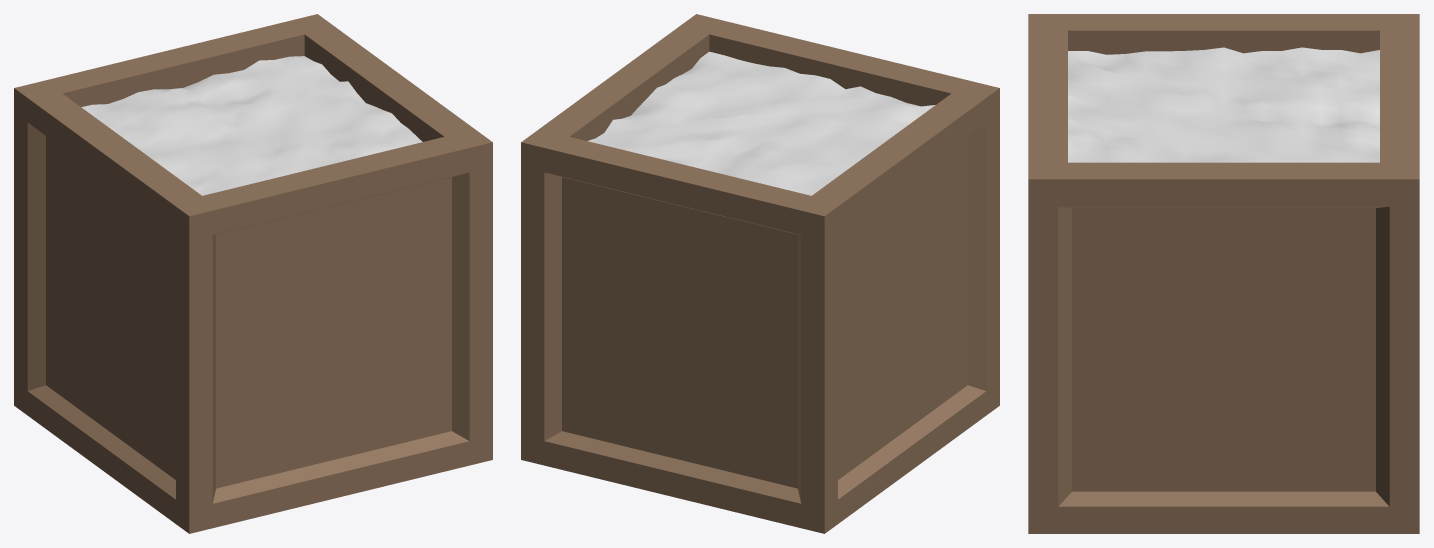
Rendered from crate.fbx.
3 renders of one model, left to right at view 1: azimuth 30°, elevation 25°; view 2: azimuth 150°, elevation 25°; view 3: azimuth 270°, elevation 25°, orthographic. The views are drawn at different scales.
Visible parts, largest first — view 1: Cube, Cube.001; view 2: Cube, Cube.001; view 3: Cube, Cube.001.
Boxes of the visible parts, bbox=[...] form: Cube: bbox=[14, 14, 492, 533]; Cube.001: bbox=[81, 56, 422, 195]; Cube: bbox=[521, 14, 999, 533]; Cube.001: bbox=[587, 51, 935, 195]; Cube: bbox=[1028, 14, 1419, 533]; Cube.001: bbox=[1068, 47, 1379, 162].
Size of the model in its own units: 200 by 200 by 200.
